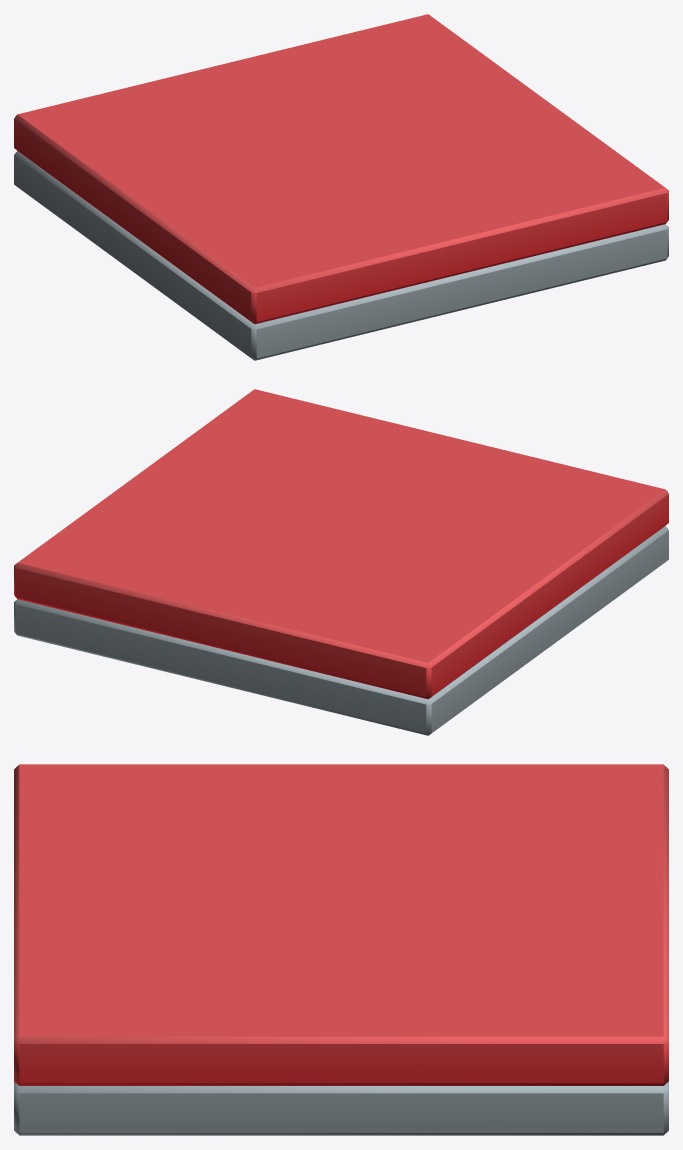
File: platform_6x6x1_red.glb
The picture shows the model from 3 angles, top to bottom: view 1: azimuth 30°, elevation 25°; view 2: azimuth 150°, elevation 25°; view 3: azimuth 270°, elevation 25°; orthographic projection. The views are drawn at different scales.
Parts seen in each view (by area): view 1: platform_6x6x1_red; view 2: platform_6x6x1_red; view 3: platform_6x6x1_red.
Boxes of the visible parts, left/top/right/bottom form: platform_6x6x1_red: left=14, top=14, right=668, bottom=360; platform_6x6x1_red: left=14, top=389, right=668, bottom=735; platform_6x6x1_red: left=14, top=764, right=668, bottom=1135.
Bounding box in the file's own units: 6 × 1 × 6.
Materials: 1 (1 with a texture image).
